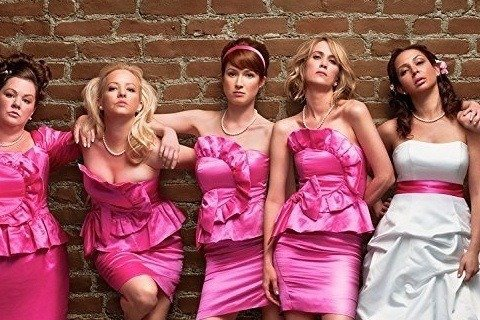bad: (397, 54, 433, 90), (221, 66, 257, 102), (101, 78, 137, 114), (305, 46, 341, 82), (0, 86, 33, 122)
